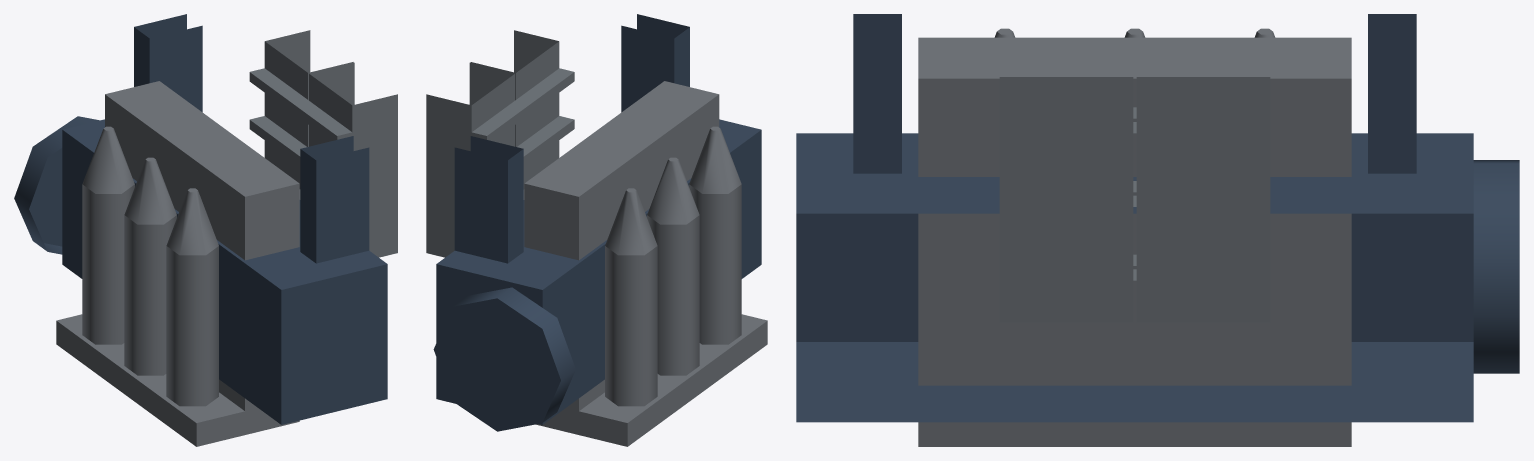
File: GB_Casemate.glb
The picture shows the model from 3 angles, left to right: view 1: azimuth 30°, elevation 25°; view 2: azimuth 150°, elevation 25°; view 3: azimuth 270°, elevation 25°; orthographic projection. The views are drawn at different scales.
Parts seen in each view (by area): view 1: GB_Casemate__hoist_car, GB_Casemate__hoist_head, GB_Casemate__blast_door, GB_Casemate__hoist_rail; view 2: GB_Casemate__hoist_car, GB_Casemate__hoist_head, GB_Casemate__blast_door, GB_Casemate__hoist_rail; view 3: GB_Casemate__hoist_head, GB_Casemate__hoist_car, GB_Casemate__blast_door, GB_Casemate__hoist_rail.
Part boxes in pixels (x1,y1,x2,y2): GB_Casemate__hoist_car: [56, 81, 299, 446]; GB_Casemate__hoist_head: [14, 116, 387, 424]; GB_Casemate__blast_door: [249, 30, 397, 257]; GB_Casemate__hoist_rail: [134, 14, 369, 263]; GB_Casemate__hoist_car: [524, 81, 767, 446]; GB_Casemate__hoist_head: [433, 119, 761, 431]; GB_Casemate__blast_door: [426, 30, 574, 257]; GB_Casemate__hoist_rail: [454, 14, 689, 263]; GB_Casemate__hoist_head: [796, 133, 1519, 422]; GB_Casemate__hoist_car: [918, 28, 1351, 446]; GB_Casemate__blast_door: [999, 77, 1270, 322]; GB_Casemate__hoist_rail: [853, 14, 1416, 259].
Size of the model in its own units: 1.5 by 1.75 by 2.67.
